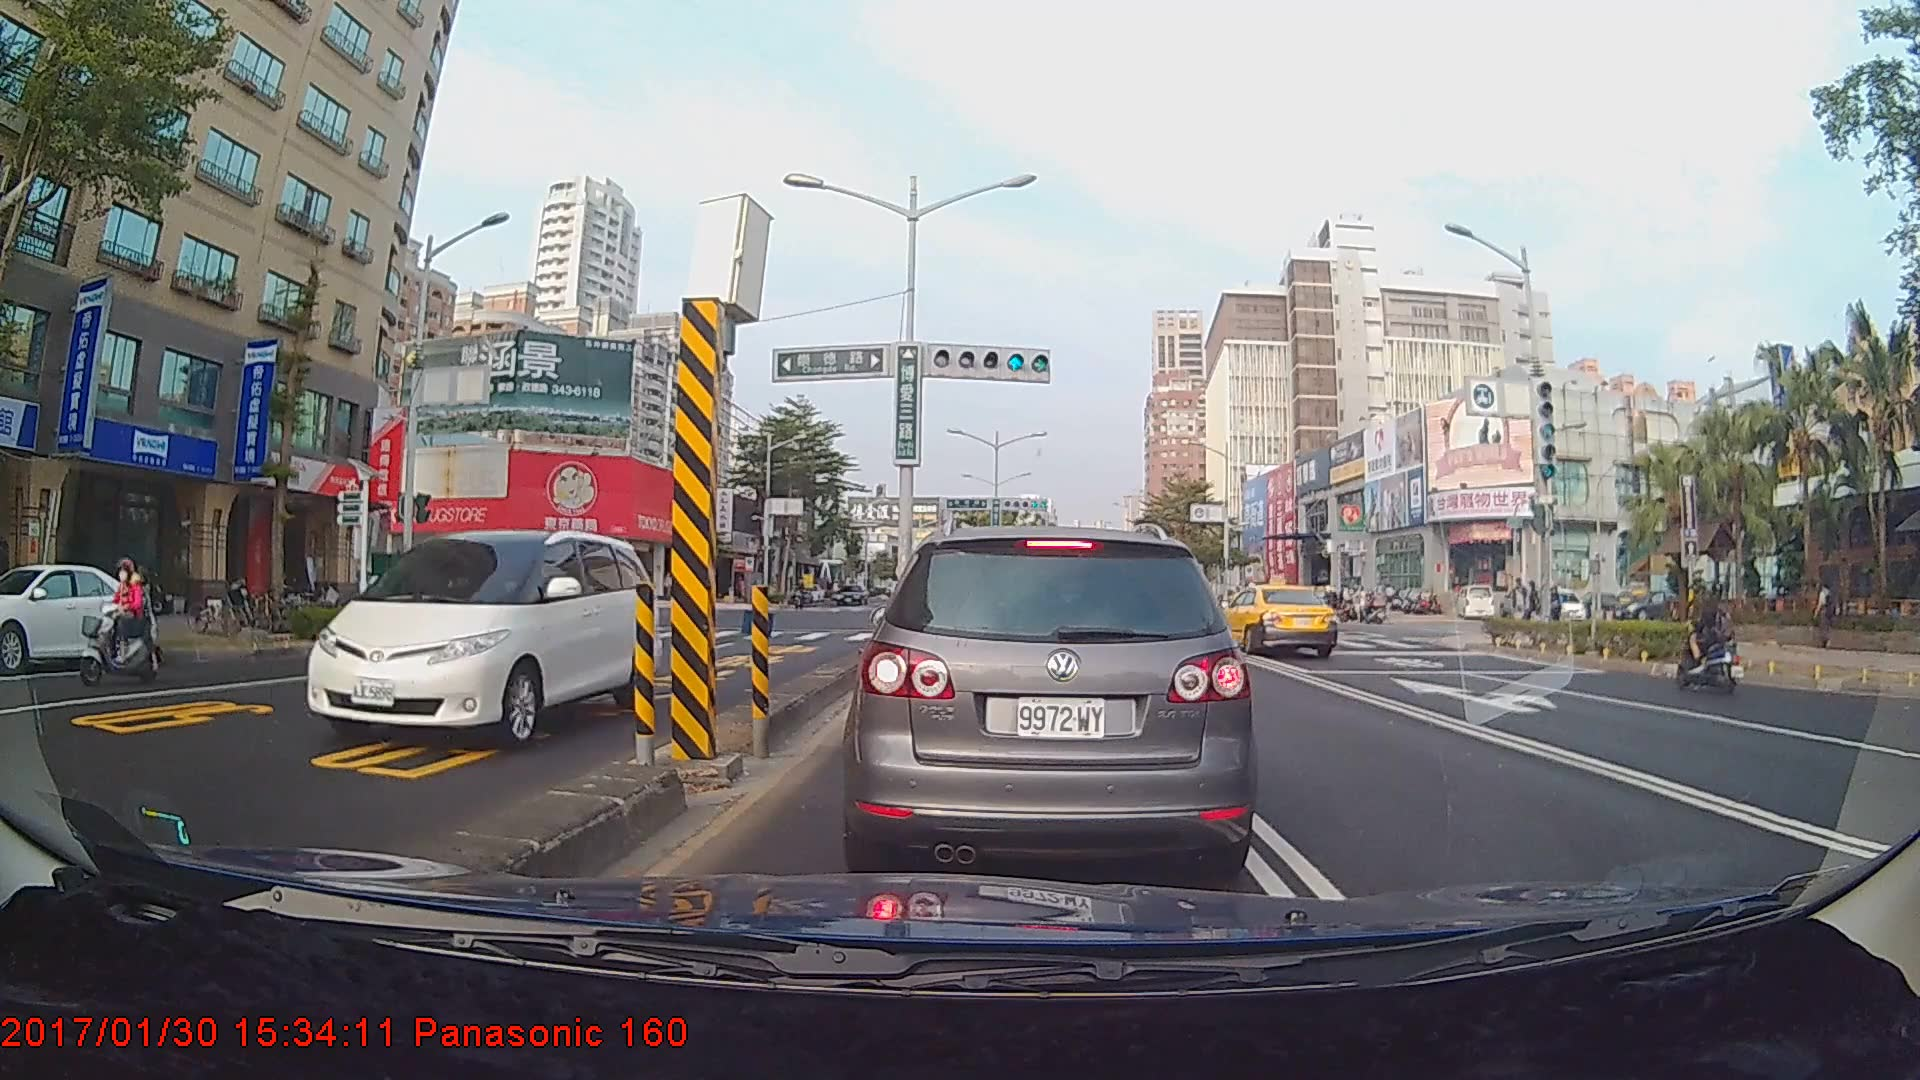pedestrian: (1813, 579, 1838, 648)
rider: (70, 557, 160, 692), (1671, 578, 1753, 700)
vehicle: (855, 520, 1251, 874), (302, 522, 665, 749), (0, 561, 158, 671), (1214, 582, 1339, 661)
